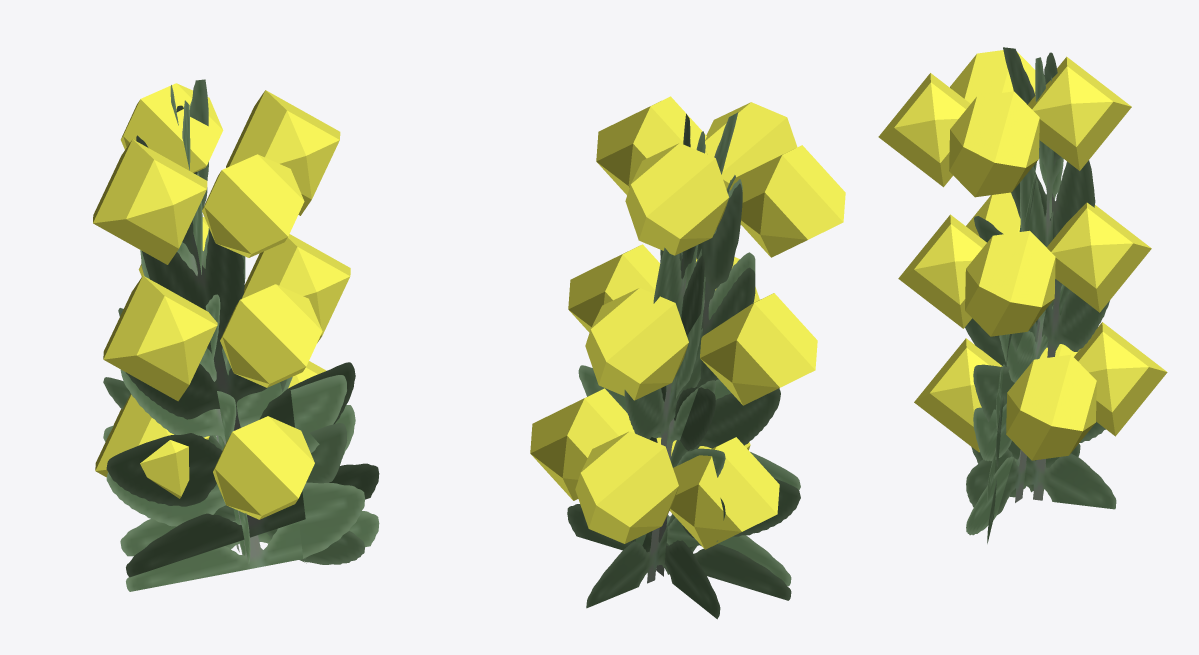
Rendered from WattleFlower.fbx.
The picture shows the model from 3 angles, left to right: view 1: azimuth 30°, elevation 25°; view 2: azimuth 150°, elevation 25°; view 3: azimuth 270°, elevation 25°; orthographic projection. The views are drawn at different scales.
Parts seen in each view (by area): view 1: WattleFlower; view 2: WattleFlower; view 3: WattleFlower.
Boxes of the visible parts, x1,y1,x2,y2 form: WattleFlower: [93, 79, 379, 591]; WattleFlower: [530, 96, 845, 619]; WattleFlower: [878, 47, 1167, 543].
Bounding box in the file's own units: 0.8183 × 1.2 × 0.6447.
